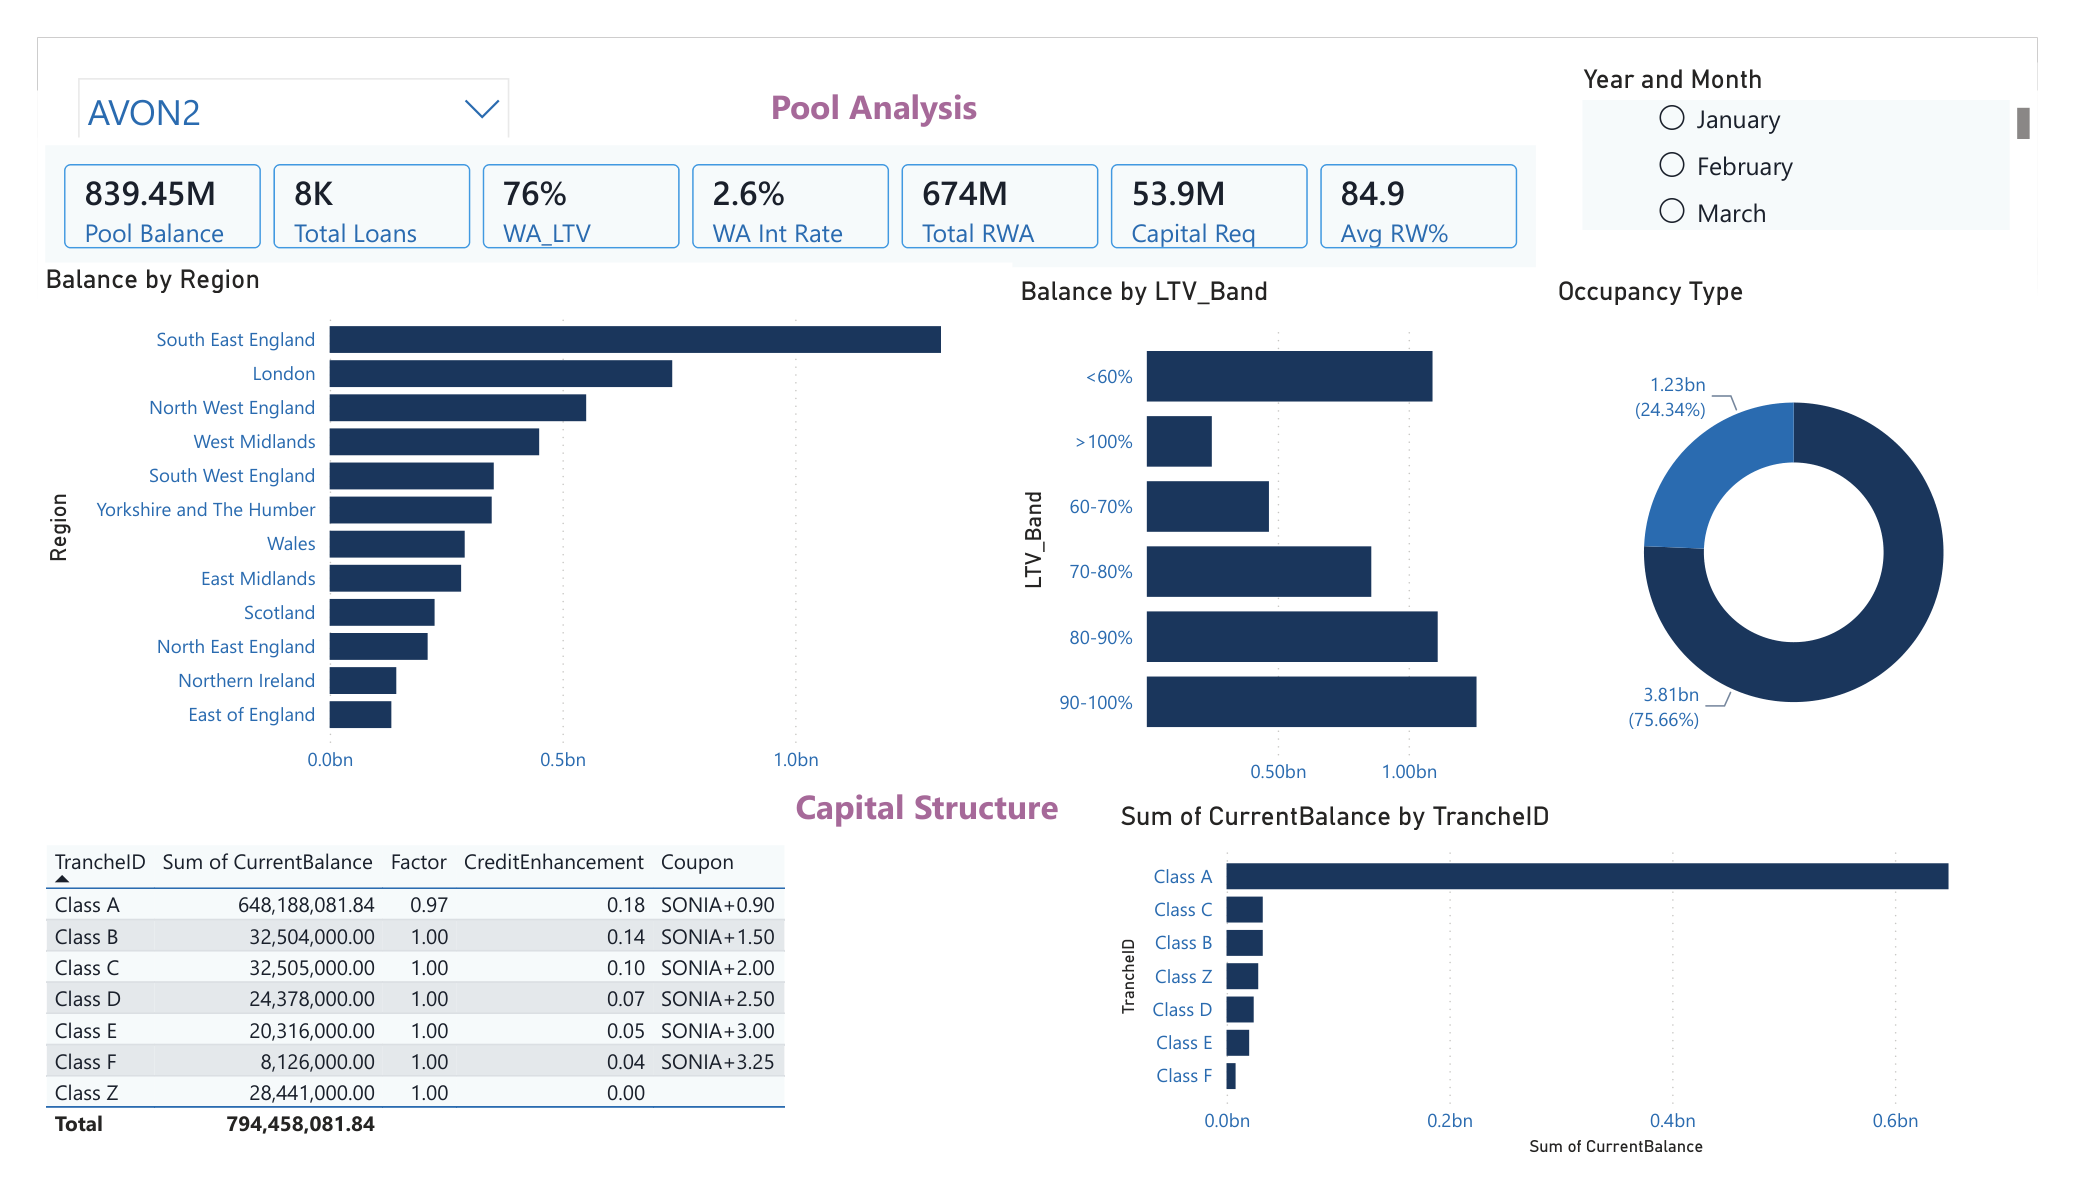

The dashboard page shown, as its layout file describes it:
{"tool":"powerbi","page":{"name":"Pool Analysis","canvas":[1280,720],"ordinal":0},"visuals":[{"type":"card","fields":{"Values":["Sum(pool_summary.LoanCount)"]},"box":[384,0,256,96],"z":0},{"type":"slicer","fields":{"Values":["pool_summary.DealID"]},"box":[16,0,560,128],"z":1000},{"type":"cardVisual","fields":{"Data":["Sum(strat_region.Balance)","Sum(strat_region.LoanCount)","Avg(strat_region.WA_LTV)","Avg(strat_region.WA_Rate)"]},"box":[0,104,824,160],"z":2000},{"type":"clusteredBarChart","fields":{"Category":["strat_region.Region"],"Y":["Sum(strat_region.Balance)"]},"box":[0,288,640,352],"z":3000},{"type":"cardVisual","fields":{"Data":["dim_tranche.Report Date"]},"box":[1024,0,240,80],"z":4000},{"type":"clusteredBarChart","fields":{"Category":["strat_ltv.LTV_Band"],"Y":["Sum(strat_ltv.Balance)"]},"box":[672,288,608,352],"z":5000},{"type":"donutChart","fields":{"Y":["Sum(strat_occupancy.Balance)"],"Category":["strat_occupancy.OccupancyType"]},"box":[824,112,456,152],"z":6000}]}

Visuals, with their boxes on the page's 1280x720 design canvas (x1, y1, x2, y2). These are canvas units, not pixel positions in the 2075x1200 screenshot, which may show the page scaled, cropped or inside an application window:
card - Sum(pool_summary.LoanCount): locate(384, 0, 640, 96)
slicer - pool_summary.DealID: locate(16, 0, 576, 128)
cardVisual - Sum(strat_region.Balance) x Sum(strat_region.LoanCount): locate(0, 104, 824, 264)
clusteredBarChart - strat_region.Region x Sum(strat_region.Balance): locate(0, 288, 640, 640)
cardVisual - dim_tranche.Report Date: locate(1024, 0, 1264, 80)
clusteredBarChart - strat_ltv.LTV_Band x Sum(strat_ltv.Balance): locate(672, 288, 1280, 640)
donutChart - Sum(strat_occupancy.Balance) x strat_occupancy.OccupancyType: locate(824, 112, 1280, 264)
